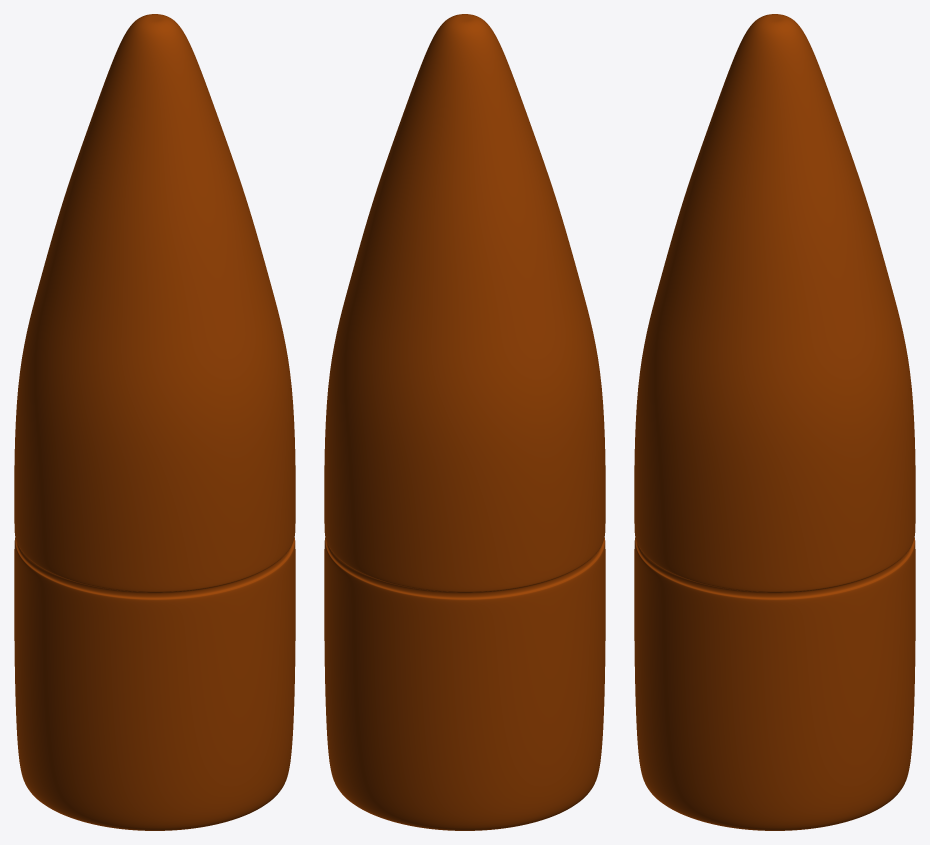
3 renders of one model, left to right at view 1: azimuth 30°, elevation 25°; view 2: azimuth 150°, elevation 25°; view 3: azimuth 270°, elevation 25°, orthographic.
Parts seen in each view (by area): view 1: Bullet; view 2: Bullet; view 3: Bullet.
Part boxes in pixels (<box>): Bullet: <box>14,14,295,830</box>; Bullet: <box>324,14,605,830</box>; Bullet: <box>634,14,915,830</box>.
Size of the model in its own units: 106 by 315 by 106.
